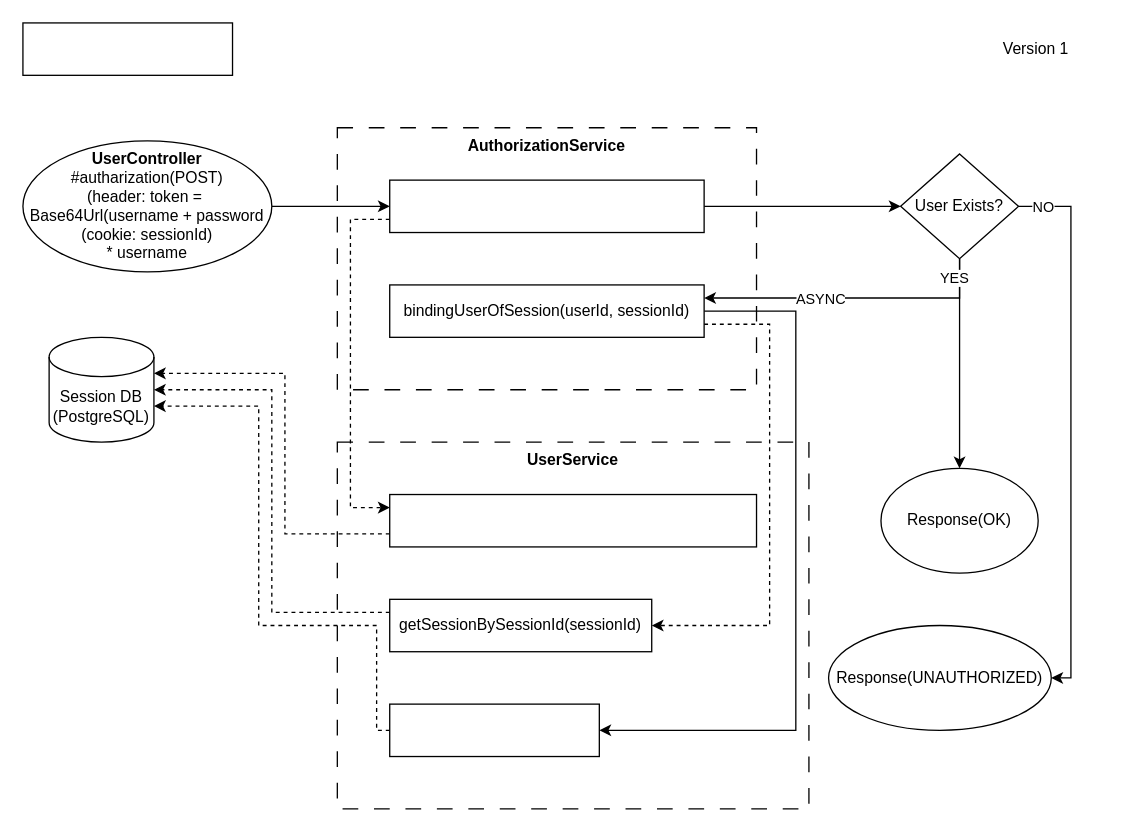
This 1129x832 diagram has some shape labels left out. The centre of each missing label's shape, as x and y in pixels:
getUserByUsernameAndToken(username, token): the point at 572,520
saveSession(sessionEntity): the point at 493,730
sheckUserData(sessionId, username, token): the point at 546,206
User's authorization: the point at 127,48
